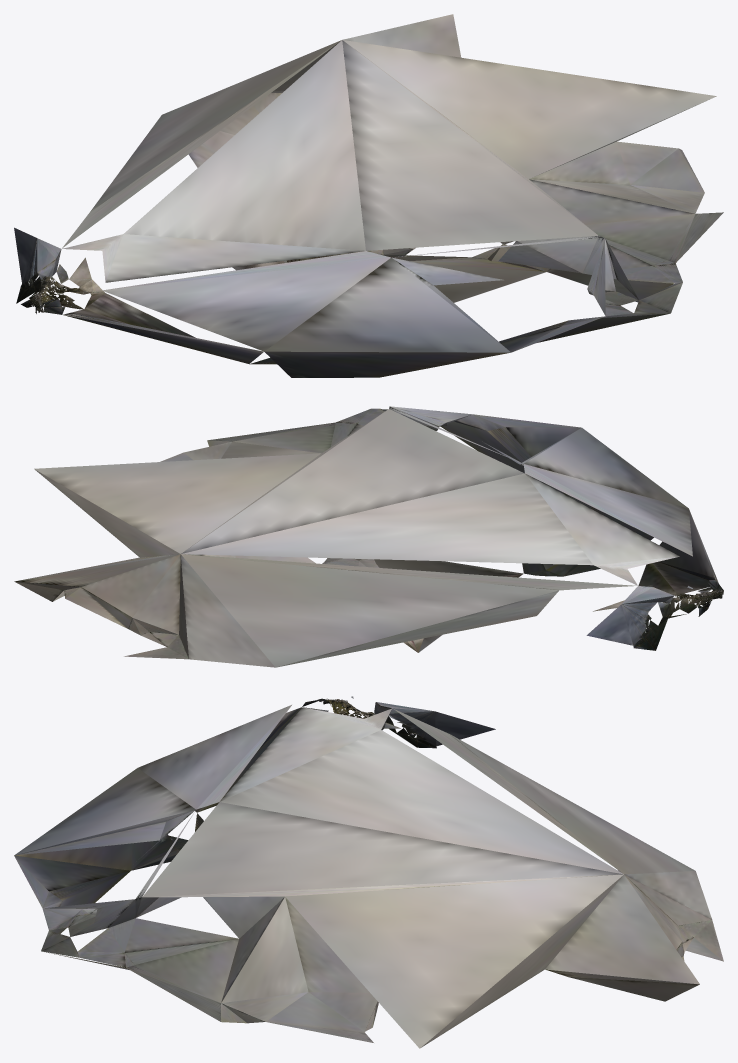
Rendered from after_textured.glb.
The picture shows the model from 3 angles, top to bottom: view 1: azimuth 30°, elevation 25°; view 2: azimuth 150°, elevation 25°; view 3: azimuth 270°, elevation 25°; orthographic projection. The views are drawn at different scales.
Parts seen in each view (by area): view 1: textured; view 2: textured; view 3: textured.
Part boxes in pixels (x1,y1,x2,y2): textured: [14, 14, 723, 377]; textured: [14, 406, 723, 667]; textured: [14, 696, 723, 1048].
Size of the model in its own units: 1594 by 242 by 1371.
Materials: 1 (1 with a texture image).
